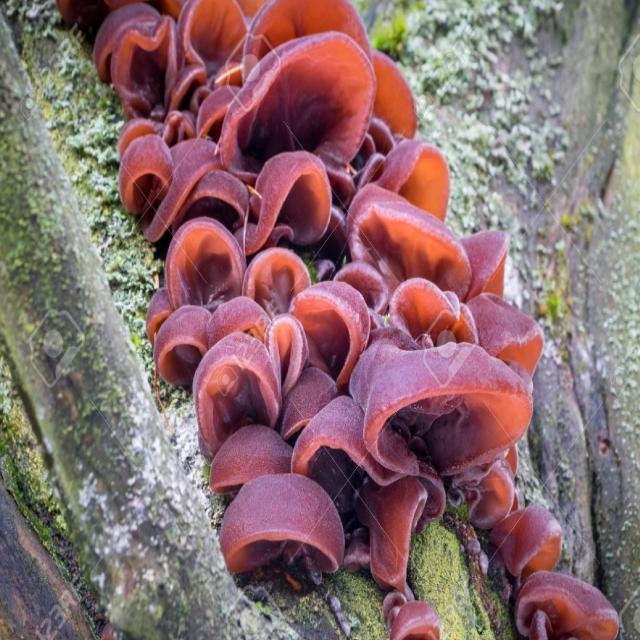Fase Muda: (42, 0, 629, 637)
